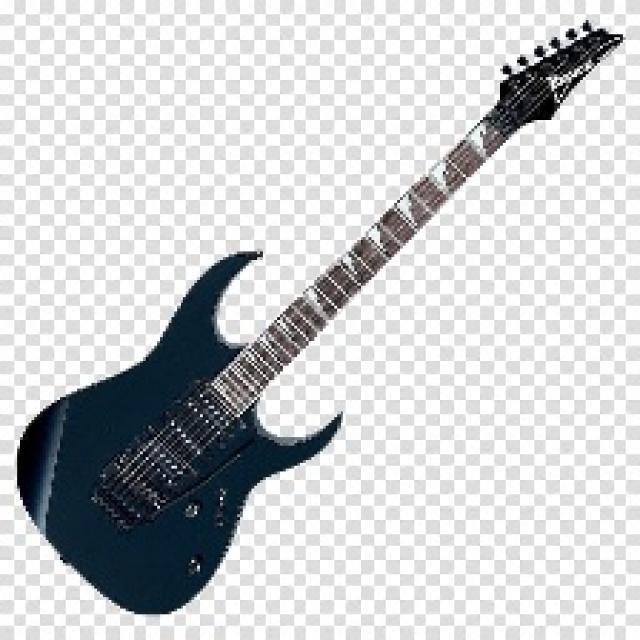guitar: (14, 21, 628, 618)
